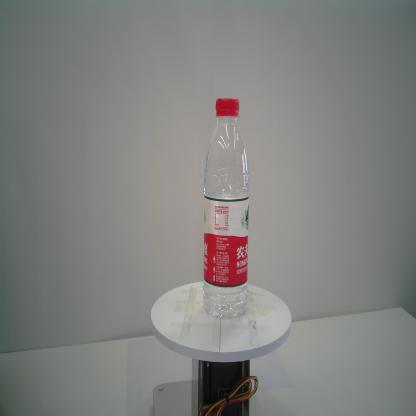Drink: (201, 96, 251, 321)
